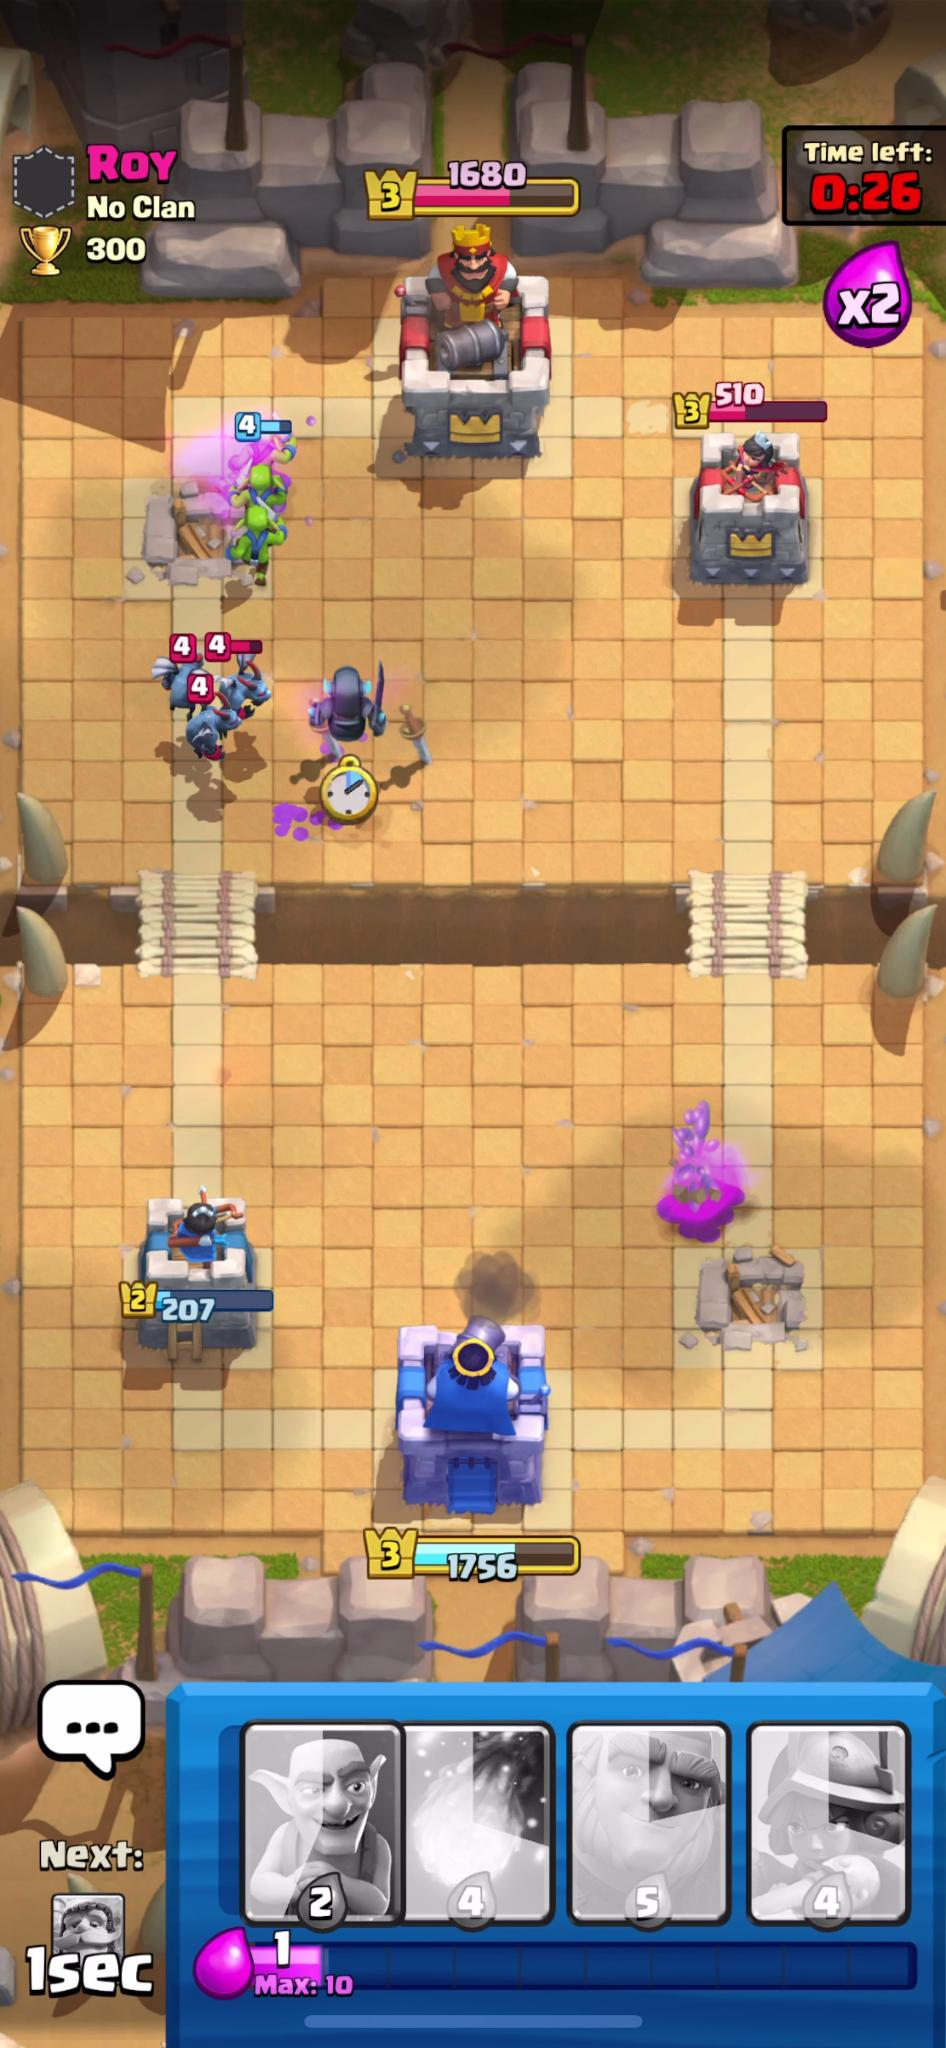archere: (225, 435, 308, 477)
gargouille: (218, 654, 274, 731), (153, 647, 206, 720)
gobelin_lances: (220, 511, 290, 576), (220, 466, 299, 522)
mini_PEKKA: (295, 670, 400, 739)
